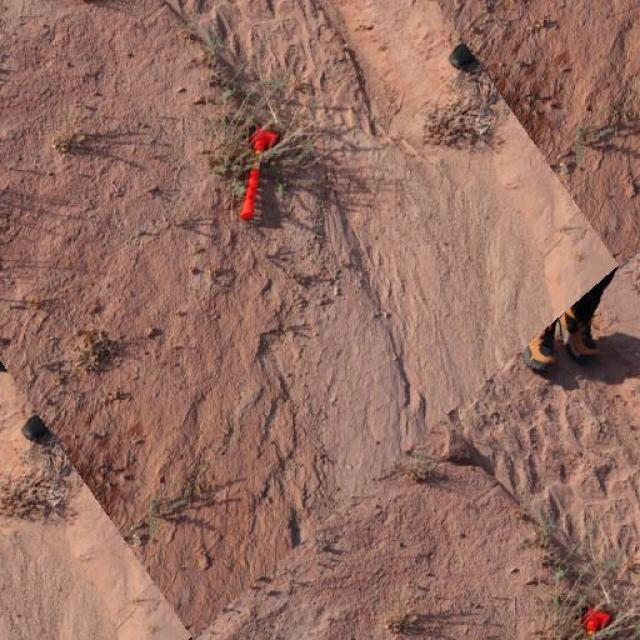mallet: (238, 125, 278, 220)
